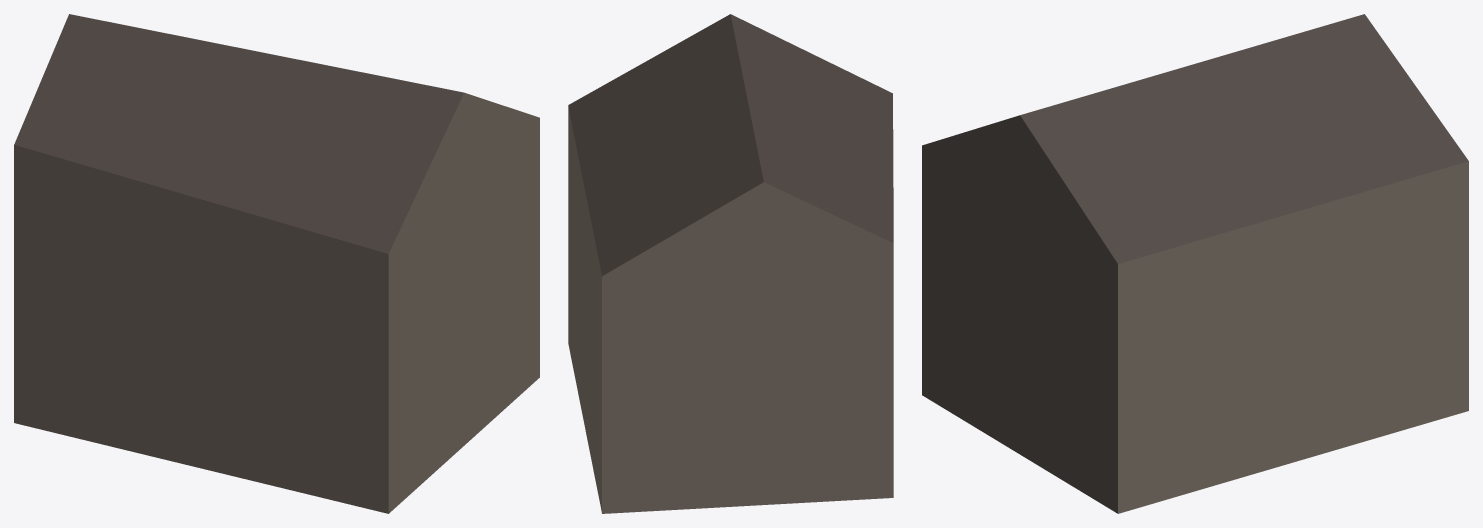
3 renders of one model, left to right at view 1: azimuth 30°, elevation 25°; view 2: azimuth 150°, elevation 25°; view 3: azimuth 270°, elevation 25°, orthographic. The views are drawn at different scales.
Visible parts, largest first — view 1: HP-w1513026734; view 2: HP-w1513026734; view 3: HP-w1513026734.
Boxes of the visible parts, x1=… form: HP-w1513026734: x1=14, y1=14, x2=539, y2=513; HP-w1513026734: x1=568, y1=14, x2=893, y2=513; HP-w1513026734: x1=922, y1=14, x2=1468, y2=513.
Size of the model in its own units: 10.65 by 8.15 by 11.91.
